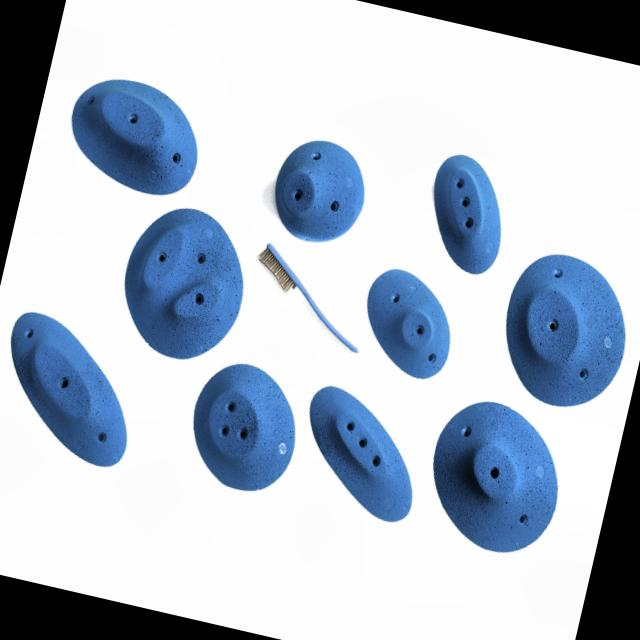Hold: (416, 391, 580, 565), (0, 309, 154, 475), (489, 244, 637, 416), (110, 198, 252, 370), (288, 378, 434, 530), (60, 67, 213, 197), (178, 352, 310, 498), (351, 250, 469, 386), (262, 132, 374, 257), (414, 149, 522, 276)
